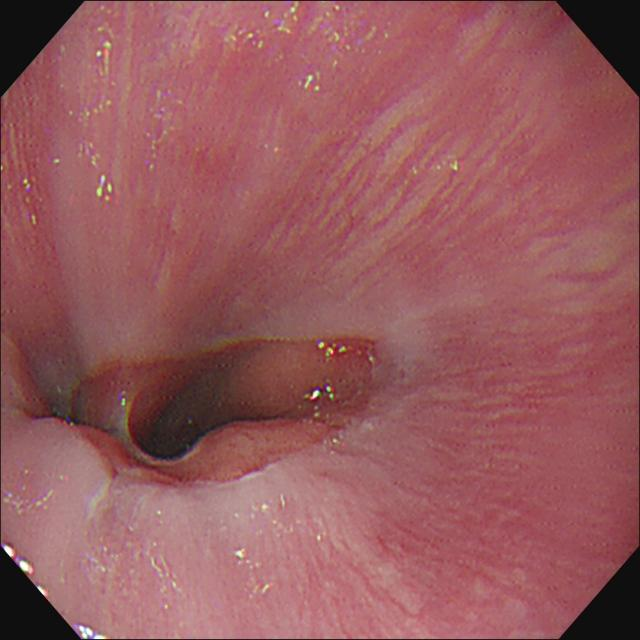I: (13, 306, 402, 521)
U: (224, 2, 381, 95), (66, 21, 125, 207), (4, 470, 66, 516), (4, 543, 51, 603), (234, 547, 274, 601), (316, 340, 352, 361), (305, 384, 338, 405), (76, 622, 113, 640)
